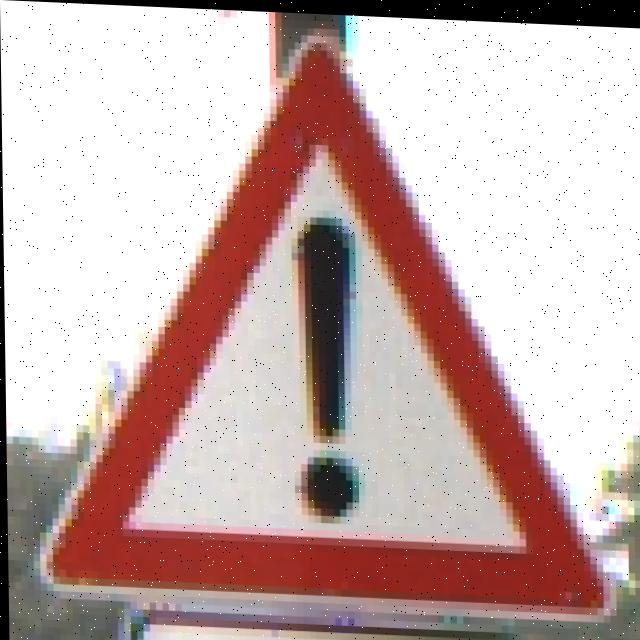warning: (18, 38, 616, 610)
